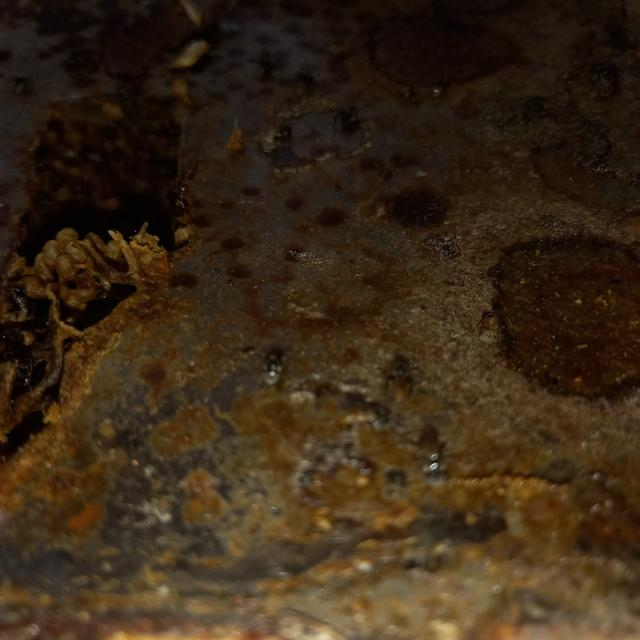honeybee: (253, 342, 292, 385), (420, 431, 443, 473)
